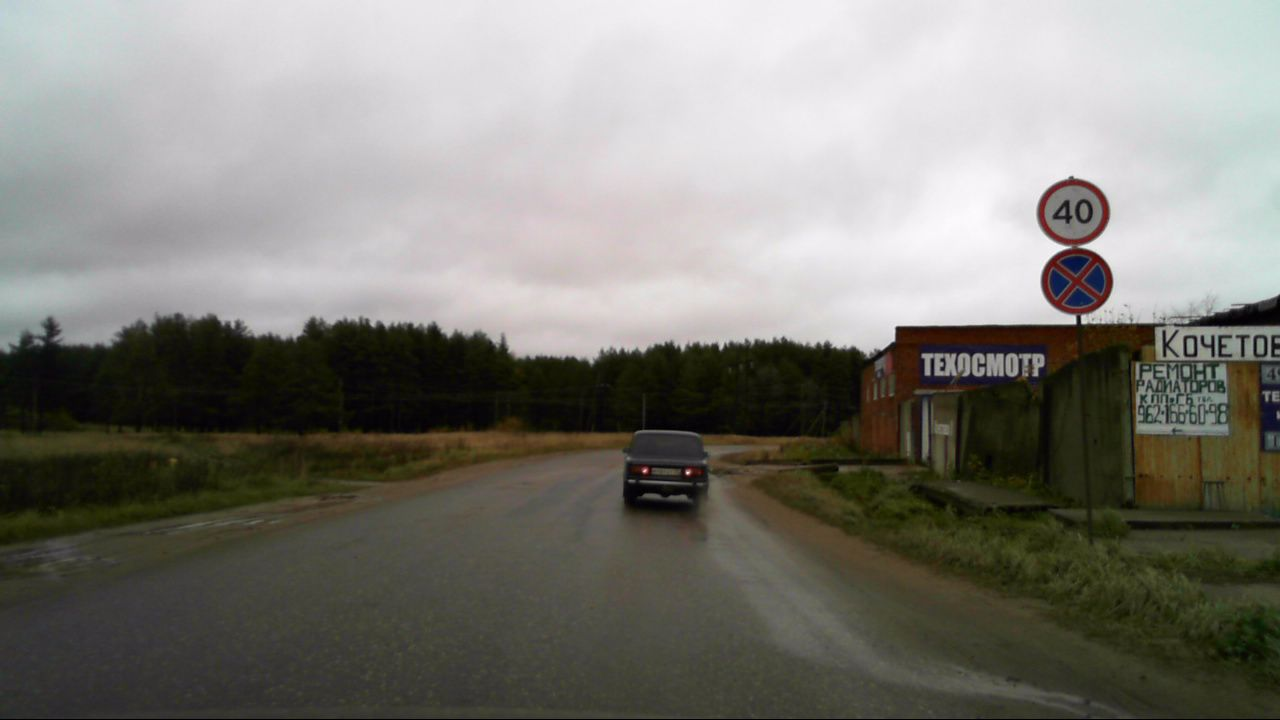No Parking: (1041, 248, 1112, 314)
speed_warning_40: (1038, 180, 1109, 244)
